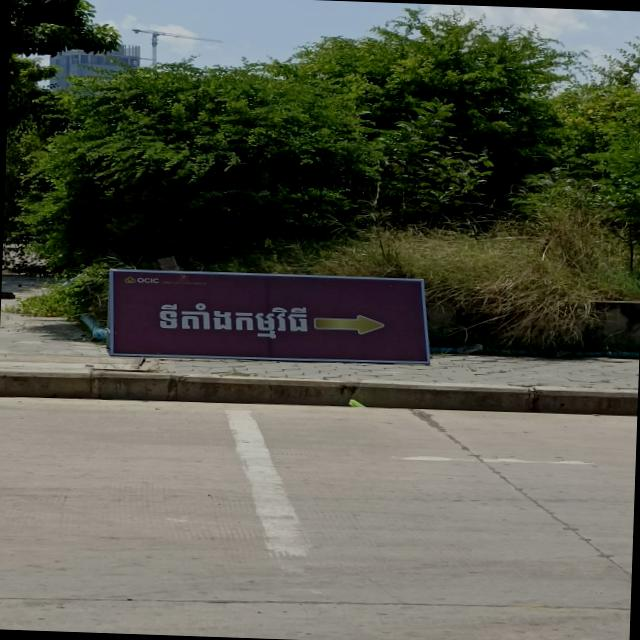Yolov11_80vkh: (153, 295, 309, 341)
